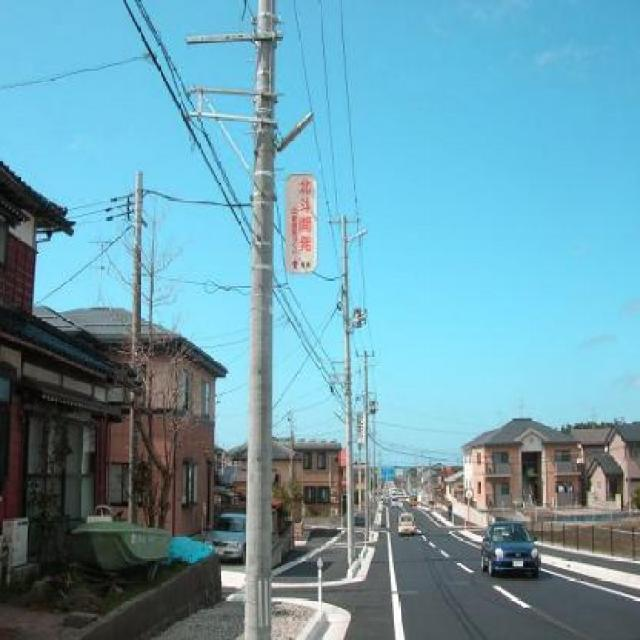pole: (178, 4, 298, 640), (98, 171, 160, 518)
